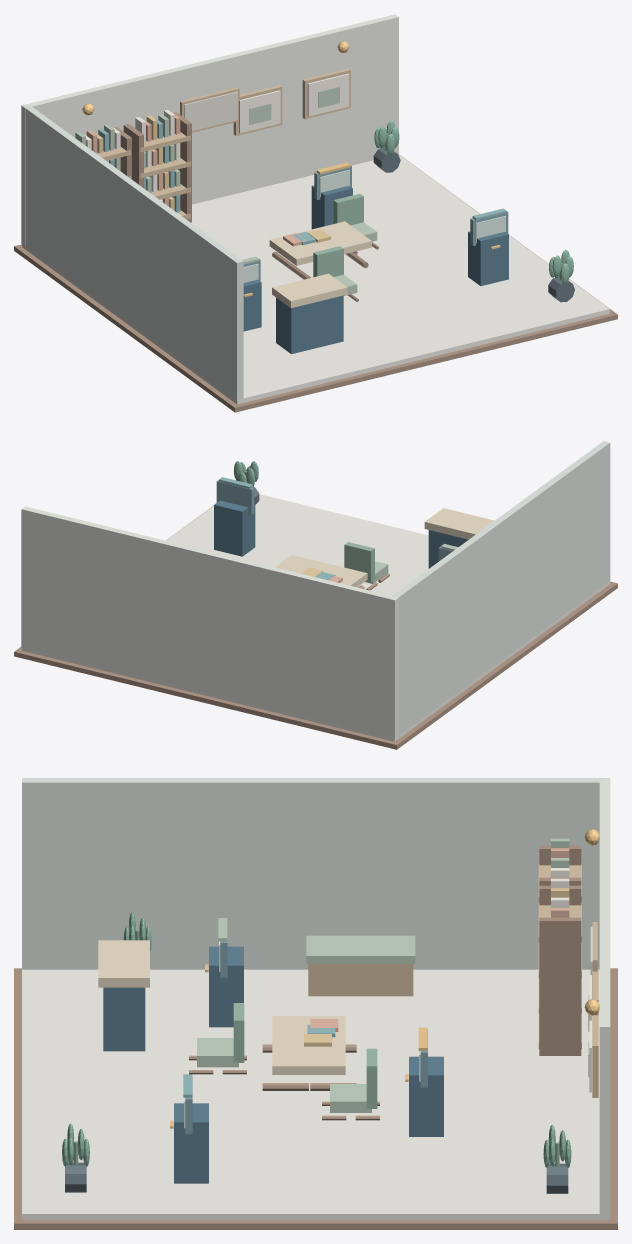
The model's file is biblioteca-modular-prototipo.glb.
3 renders of one model, top to bottom at view 1: azimuth 30°, elevation 25°; view 2: azimuth 150°, elevation 25°; view 3: azimuth 270°, elevation 25°, orthographic. The views are drawn at different scales.
Parts seen in each view (by area): view 1: floor, left_wall, rear_wall, floor_border, reception_desk, table_top, trust_plinth, reception_counter, cork_insert, wall_picture_canvas_1, wall_picture_canvas_0, risk_plinth (+7 smaller); view 2: rear_wall, left_wall, floor, floor_border, trust_plinth, reception_counter, table_top, chair_central_back, trust_display, reception_desk; view 3: floor, left_wall, floor_border, shelf_end_r_1, rear_wall, bench_left, table_top, bench_cushion, reception_desk, trust_plinth, risk_plinth, reception_counter (+7 smaller).
Part boxes in pixels (left/top/right/bottom): floor: left=22, top=154, right=609, bottom=404; left_wall: left=22, top=105, right=243, bottom=401; rear_wall: left=21, top=14, right=398, bottom=246; floor_border: left=14, top=154, right=617, bottom=412; reception_desk: left=276, top=295, right=343, bottom=354; table_top: left=269, top=221, right=371, bottom=265; trust_plinth: left=468, top=231, right=508, bottom=285; reception_counter: left=272, top=273, right=347, bottom=308; cork_insert: left=184, top=91, right=237, bottom=130; wall_picture_canvas_1: left=307, top=73, right=349, bottom=116; wall_picture_canvas_0: left=239, top=90, right=280, bottom=133; risk_plinth: left=311, top=185, right=352, bottom=229; rear_wall: left=21, top=506, right=398, bottom=738; left_wall: left=392, top=441, right=610, bottom=735; floor: left=22, top=494, right=609, bottom=741; floor_border: left=14, top=505, right=617, bottom=749; trust_plinth: left=214, top=500, right=255, bottom=556; reception_counter: left=424, top=508, right=494, bottom=539; table_top: left=275, top=555, right=367, bottom=587; chair_central_back: left=344, top=542, right=374, bottom=582; trust_display: left=216, top=480, right=254, bottom=515; reception_desk: left=428, top=530, right=468, bottom=568; floor: left=22, top=969, right=609, bottom=1220; left_wall: left=22, top=778, right=609, bottom=969; floor_border: left=14, top=968, right=617, bottom=1229; shelf_end_r_1: left=539, top=917, right=581, bottom=1055; rear_wall: left=599, top=778, right=610, bottom=1215; bench_left: left=308, top=963, right=413, bottom=996; table_top: left=272, top=1016, right=345, bottom=1074; bench_cushion: left=306, top=935, right=415, bottom=963; reception_desk: left=103, top=987, right=145, bottom=1051; trust_plinth: left=174, top=1103, right=208, bottom=1183; risk_plinth: left=409, top=1056, right=443, bottom=1136; reception_counter: left=98, top=940, right=149, bottom=987.
Bounding box in the file's own units: 8.63 × 3.15 × 8.63.
